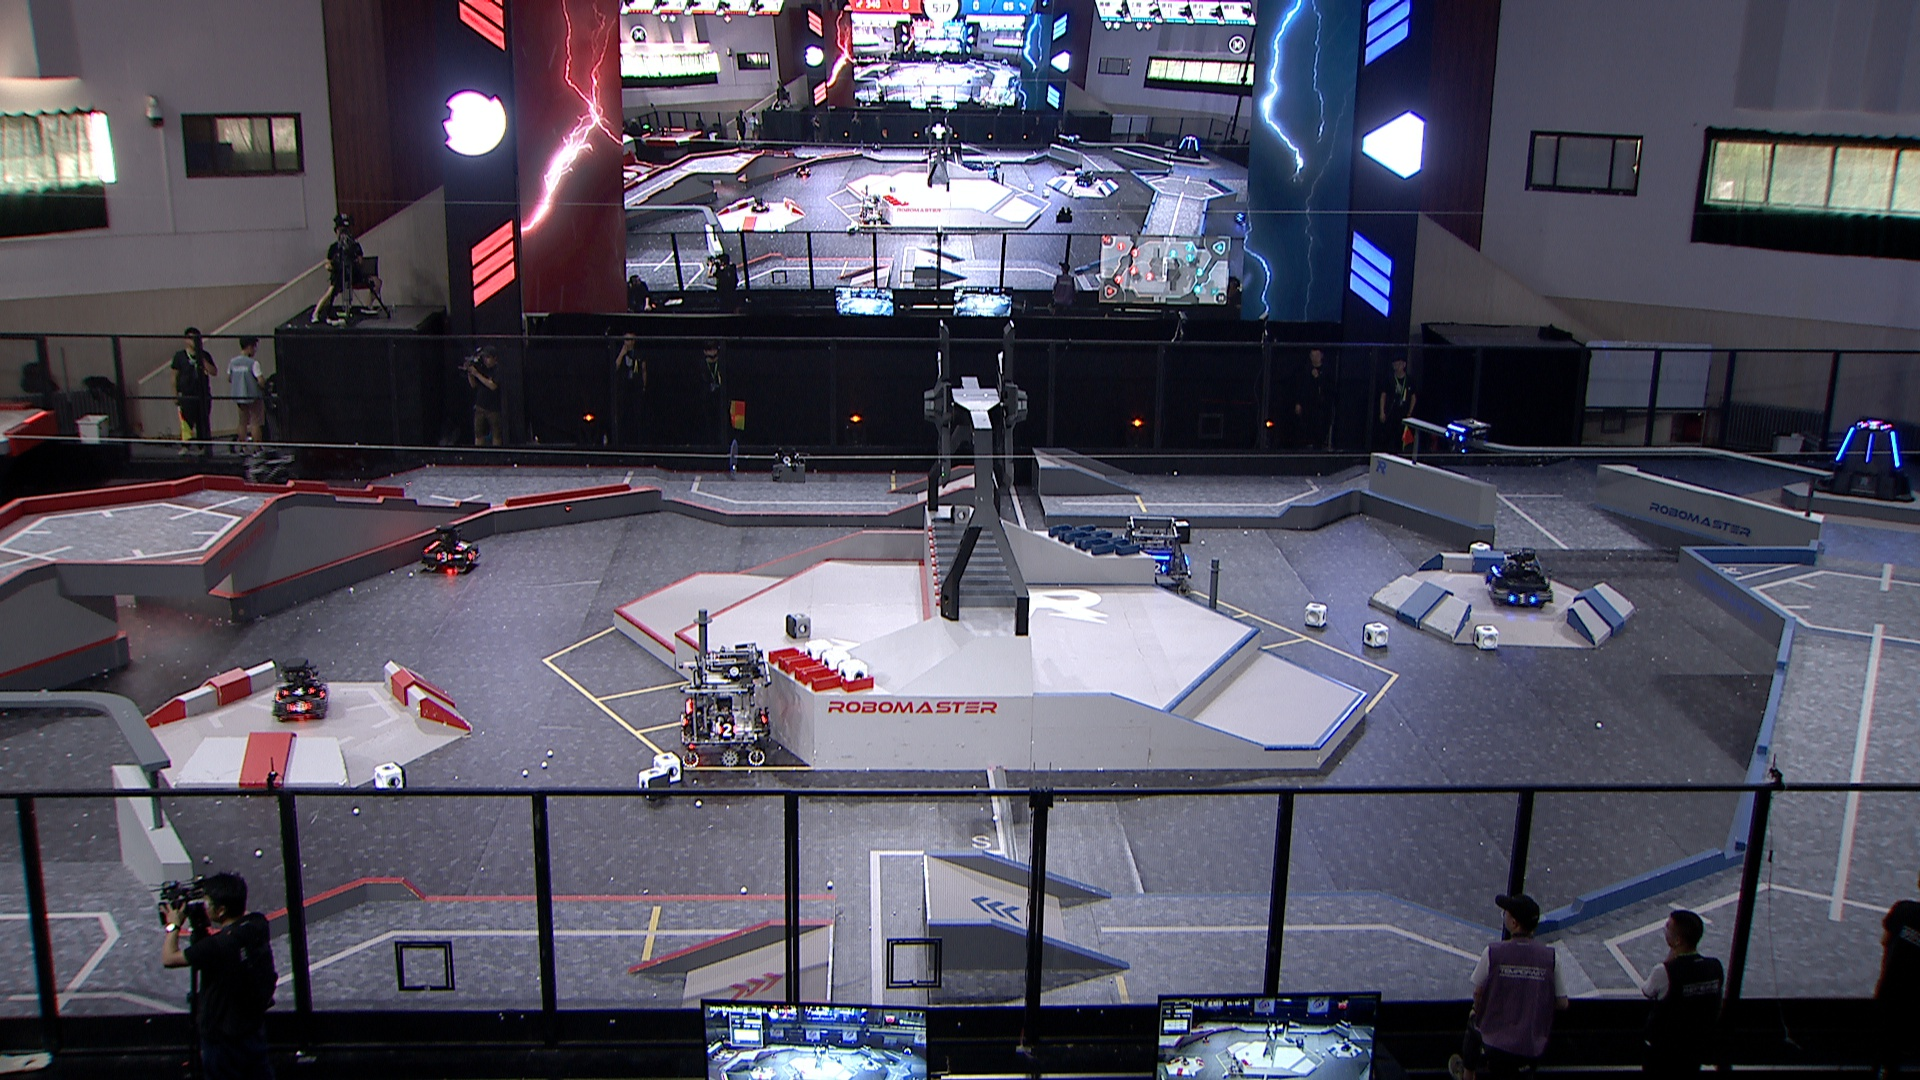armor: (1833, 425, 1854, 462), (1888, 431, 1903, 469), (1506, 589, 1538, 605), (280, 684, 316, 695), (286, 699, 311, 713), (1863, 433, 1874, 463), (717, 723, 737, 738), (1443, 431, 1466, 443), (434, 551, 455, 564), (1150, 560, 1168, 575), (452, 541, 471, 555), (467, 549, 477, 562)
base: (1811, 417, 1917, 504)
car: (674, 644, 771, 771), (1116, 516, 1195, 597), (1481, 545, 1556, 611), (237, 450, 305, 510), (268, 657, 328, 723), (419, 522, 481, 576)
ignore: (855, 195, 884, 229), (1172, 135, 1203, 160), (1073, 169, 1098, 189), (978, 161, 1000, 183), (750, 195, 770, 214), (1859, 418, 1884, 433), (794, 164, 814, 178)
watcher: (1441, 418, 1490, 458)
